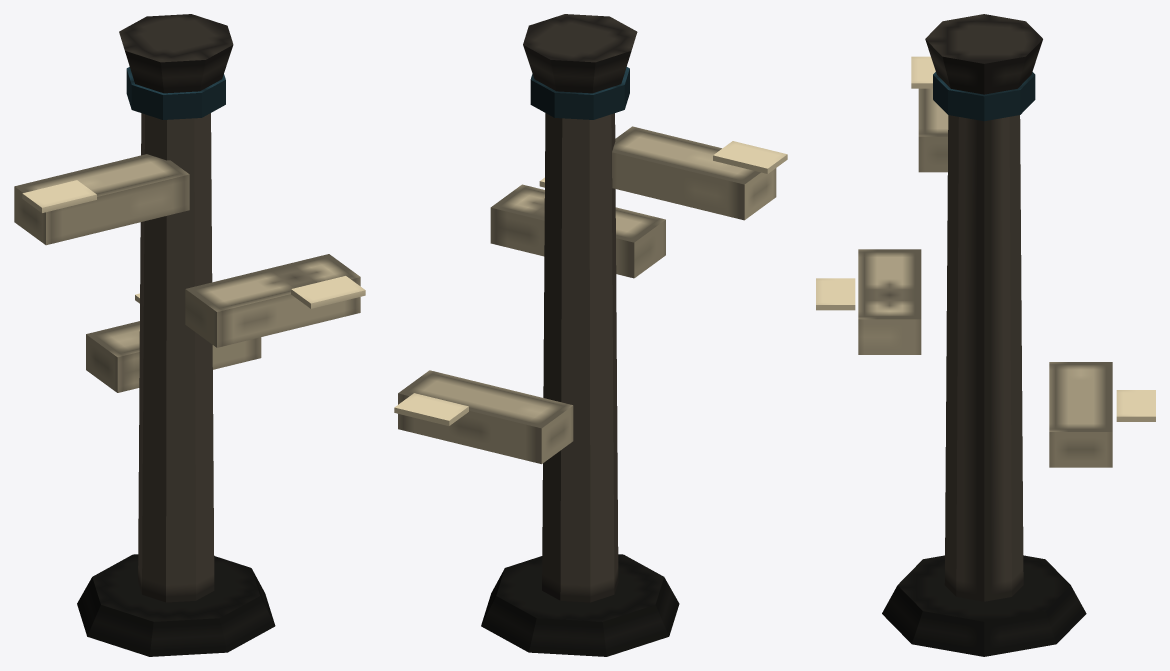
Rendered from Junction.obj.
3 renders of one model, left to right at view 1: azimuth 30°, elevation 25°; view 2: azimuth 150°, elevation 25°; view 3: azimuth 270°, elevation 25°, orthographic.
Parts seen in each view (by area): view 1: Junction; view 2: Junction; view 3: Junction.
Boxes of the visible parts, box(x1,y1,x2,y2) form: Junction: box(14, 14, 365, 656); Junction: box(394, 14, 787, 656); Junction: box(816, 14, 1155, 656).
Bounding box in the file's own units: 0.853 × 1.61 × 0.8632.
1 material, 1 textured.
